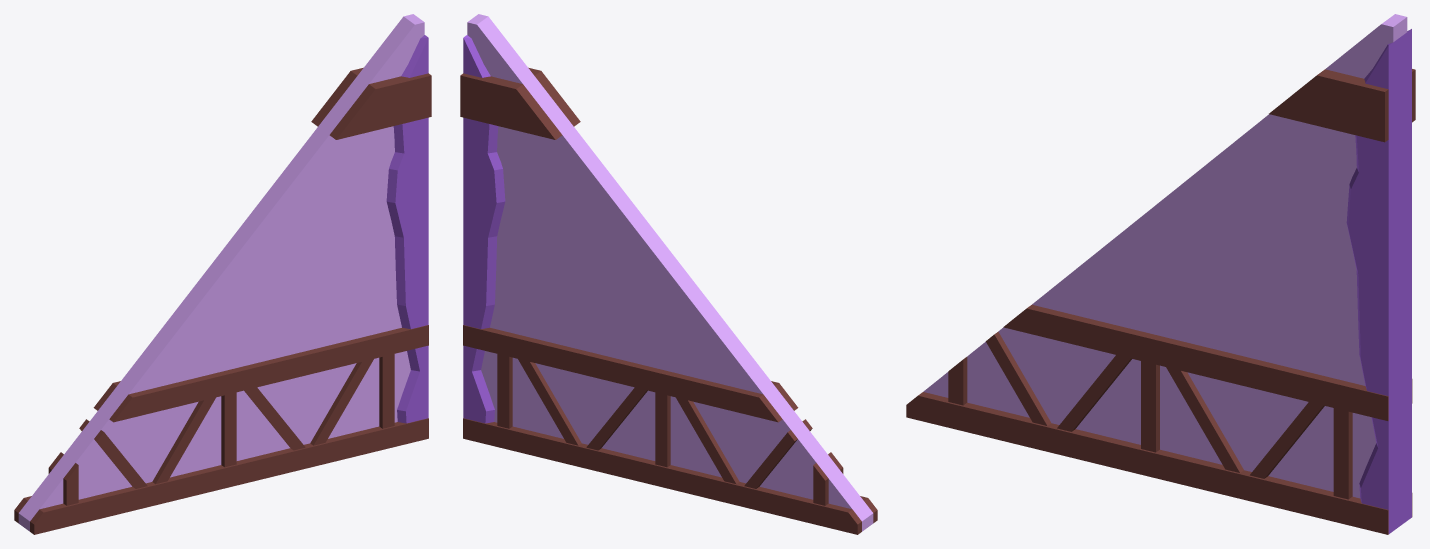
Rendered from Modular Wall Triangle 02.fbx.
3 renders of one model, left to right at view 1: azimuth 30°, elevation 25°; view 2: azimuth 150°, elevation 25°; view 3: azimuth 330°, elevation 25°, orthographic. The views are drawn at different scales.
Visible parts, largest first — view 1: Modular Wall Triangle 01; view 2: Modular Wall Triangle 01; view 3: Modular Wall Triangle 01.
Part boxes in pixels (x1,y1,x2,y2): Modular Wall Triangle 01: [14, 14, 431, 534]; Modular Wall Triangle 01: [460, 14, 877, 534]; Modular Wall Triangle 01: [906, 14, 1415, 534].
Size of the model in its own units: 400 by 400 by 44.
